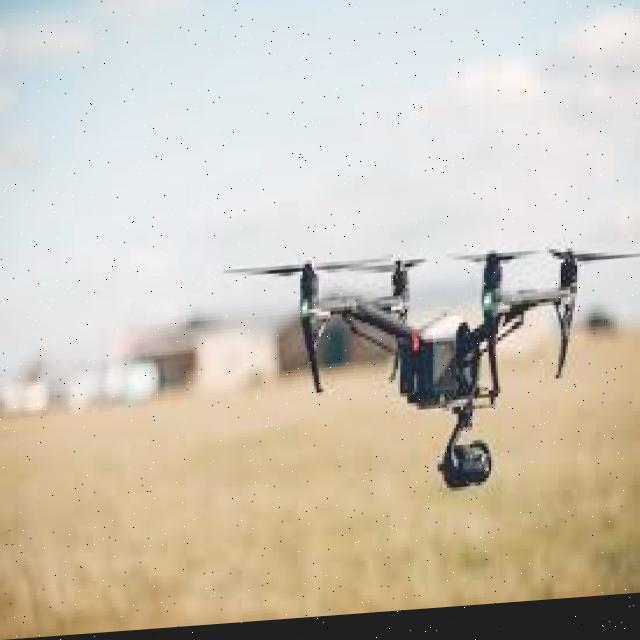drone: (218, 208, 635, 512)
